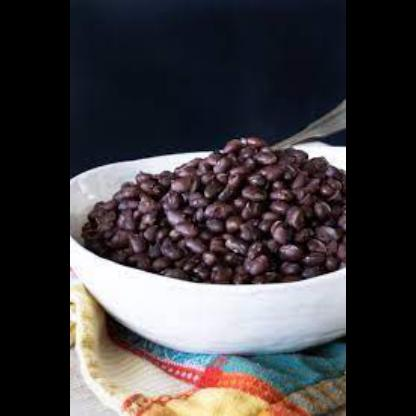black beans: (78, 137, 344, 285)
